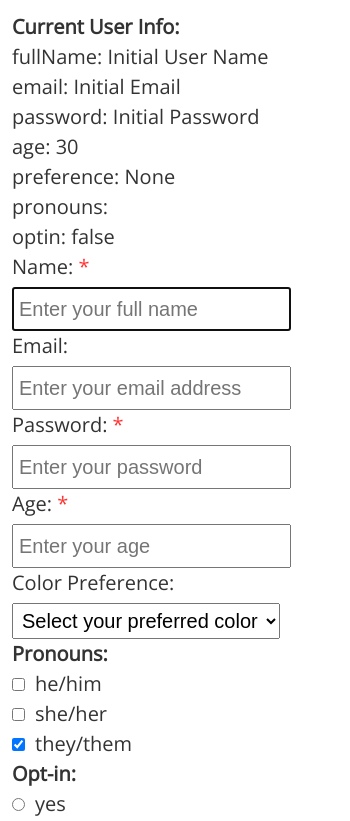
form tests › shows error when email field is malformed
Type "foo@com" into the field with placeholder "Enter your email address" at (152, 388), box [12,366,291,410]
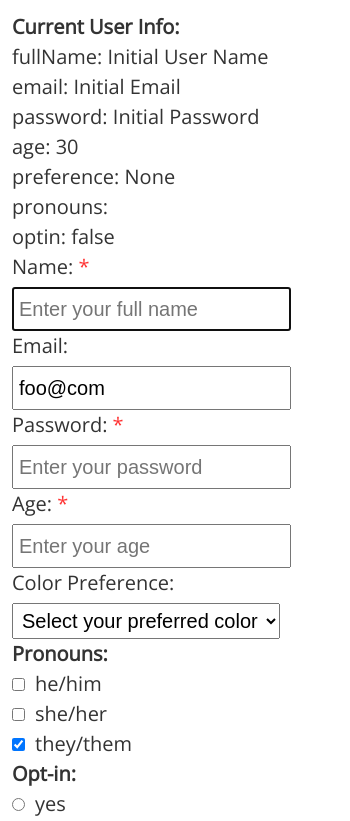
Leave the field with placeholder "Enter your email address", box [12,366,291,410]
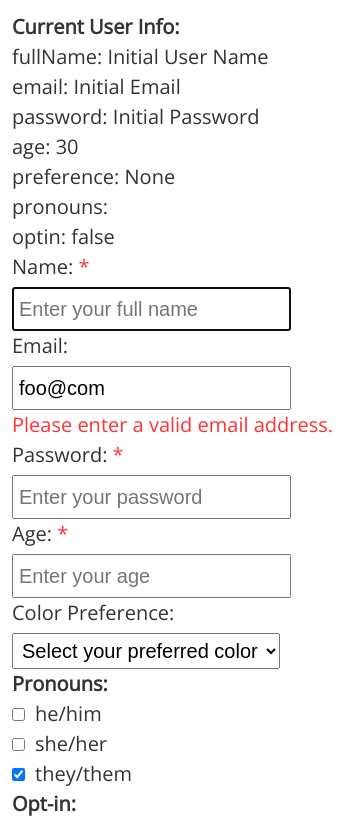
Result: the text "Please enter a valid email address." is shown at [12,411,333,438]
